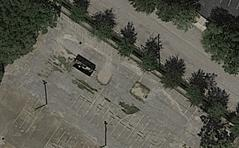parkingspot: (93, 87, 194, 148), (68, 94, 160, 148), (58, 11, 121, 71), (149, 78, 200, 122), (116, 55, 148, 85), (49, 126, 92, 148), (12, 108, 37, 135), (22, 96, 46, 120), (212, 0, 239, 12)
